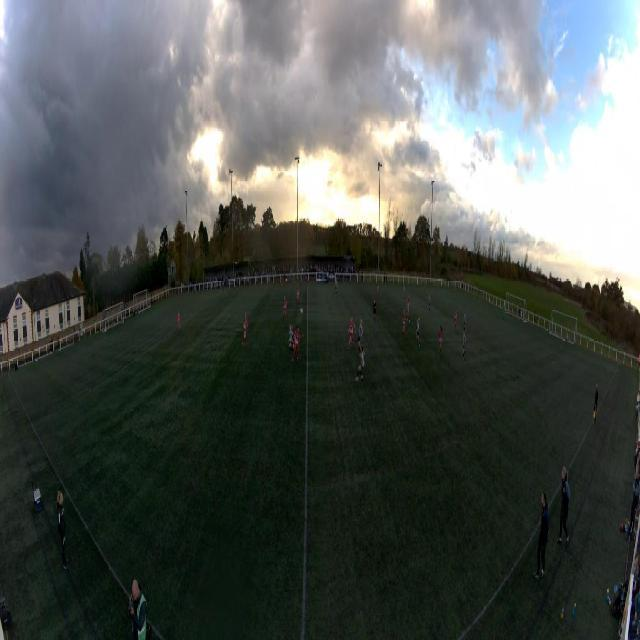ball: (300, 308, 303, 314)
player: (292, 323, 303, 368), (356, 345, 366, 382), (347, 316, 356, 352), (242, 312, 248, 347), (288, 323, 294, 355), (358, 321, 364, 349), (438, 326, 443, 356), (283, 296, 288, 322), (416, 316, 420, 348), (402, 308, 406, 339), (462, 330, 466, 360), (372, 299, 377, 320), (463, 309, 467, 333), (334, 278, 339, 297), (406, 300, 410, 322), (177, 310, 181, 331), (296, 285, 300, 305), (454, 306, 457, 331), (376, 281, 380, 297), (408, 295, 411, 316), (428, 293, 431, 313), (403, 284, 405, 302), (503, 304, 505, 320)
